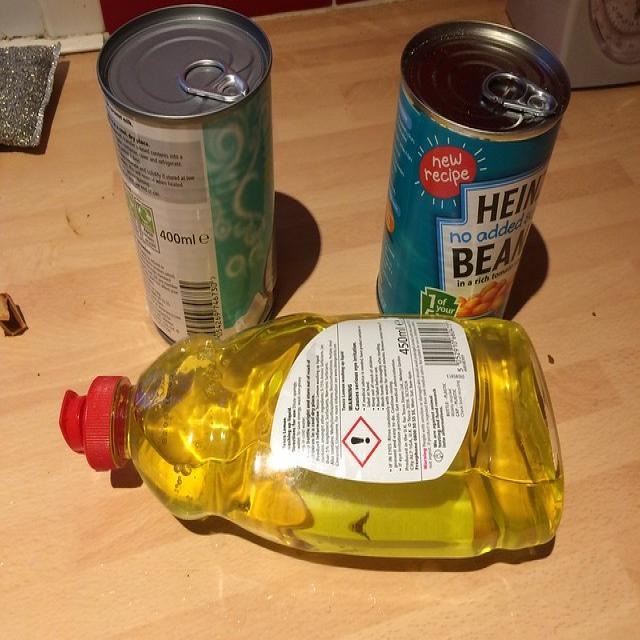Recycle: (58, 310, 567, 560), (378, 18, 573, 357), (95, 2, 285, 338)
